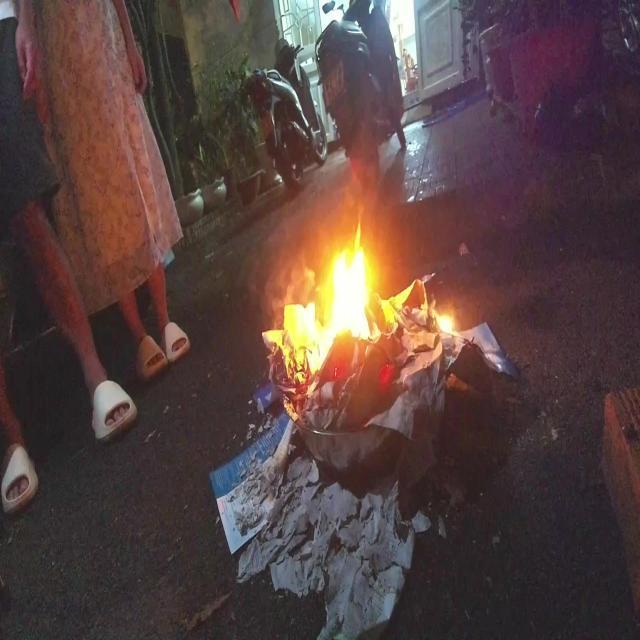Fire: (250, 216, 460, 401)
